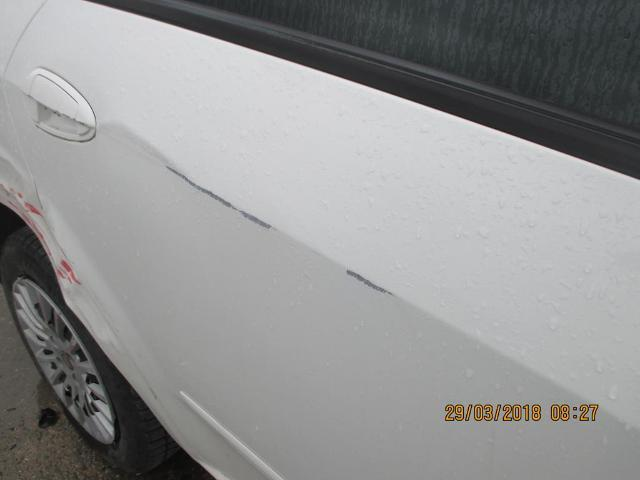dent: (0, 149, 81, 284), (61, 284, 131, 377), (98, 123, 169, 167)
scratch: (166, 166, 271, 228), (346, 269, 393, 295), (147, 387, 159, 403)
